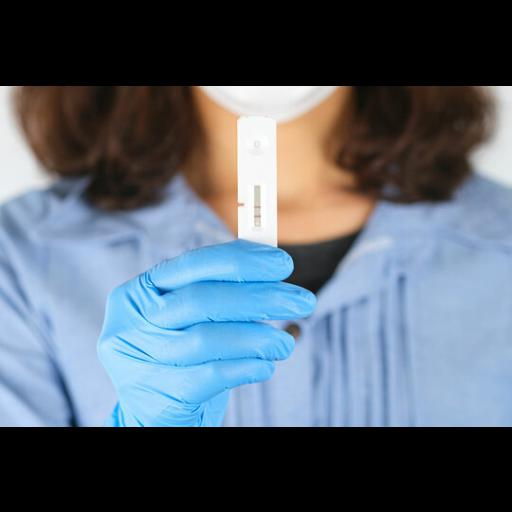Pos: (236, 115, 276, 245)
